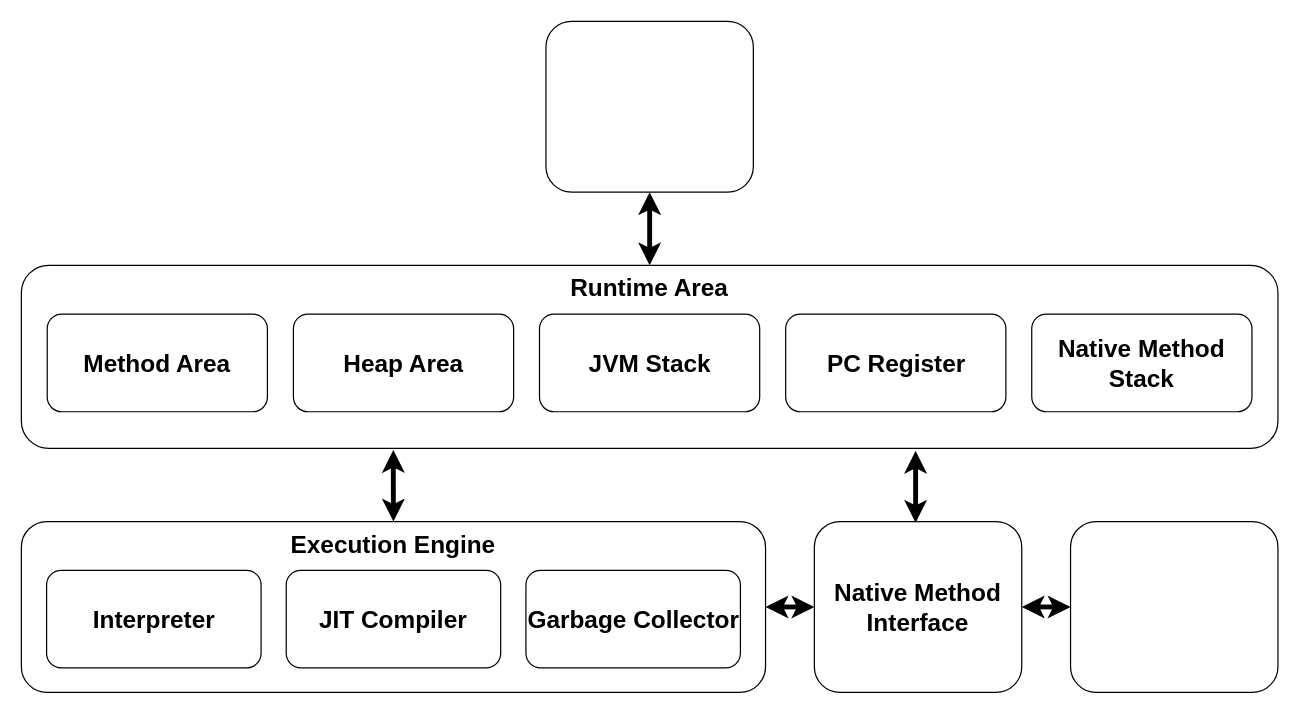
Some shapes in this 1299 by 714 pixel diagram are drawn without their labels. The shapes that lost their labels are listed below. From the top down, each one's centre as x and y in pixels, then its label:
the point at 649,106: Class Loader
the point at 1173,606: Native Method Library
